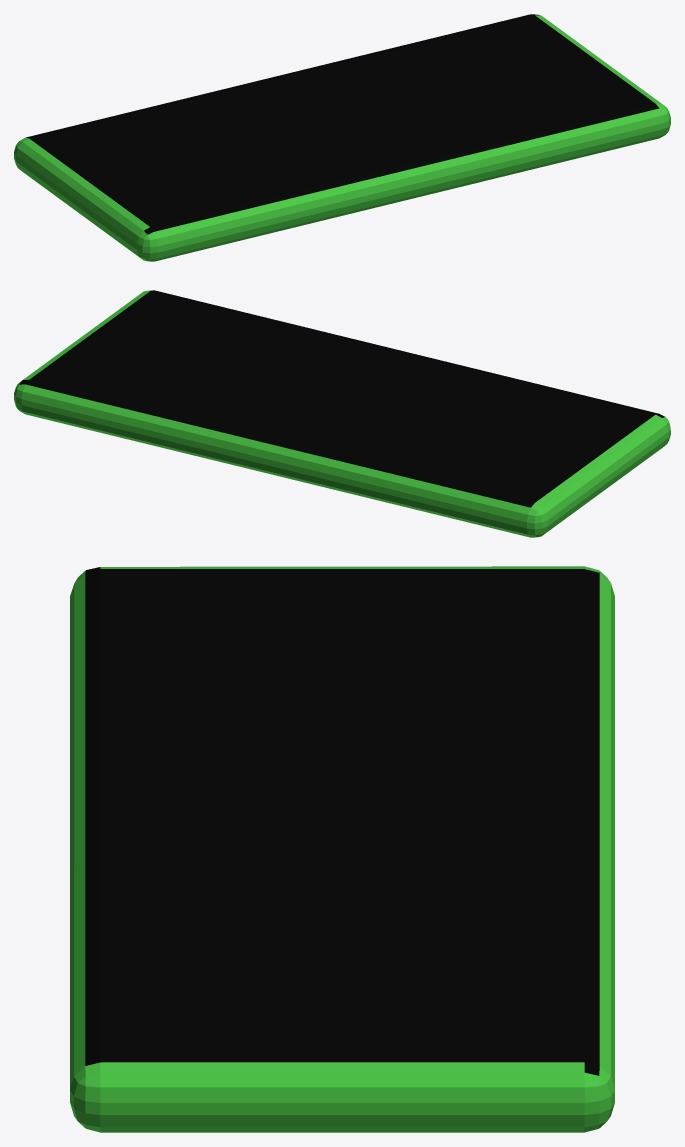
Rendered from phone.glb.
The picture shows the model from 3 angles, top to bottom: view 1: azimuth 30°, elevation 25°; view 2: azimuth 150°, elevation 25°; view 3: azimuth 270°, elevation 25°; orthographic projection. The views are drawn at different scales.
Parts seen in each view (by area): view 1: Phone; view 2: Phone; view 3: Phone.
Boxes of the visible parts, box(x1,y1,x2,y2) form: Phone: box(14, 14, 670, 261); Phone: box(14, 290, 670, 537); Phone: box(70, 566, 614, 1132).
Size of the model in its own units: 1.16 by 0.07 by 0.5132.
